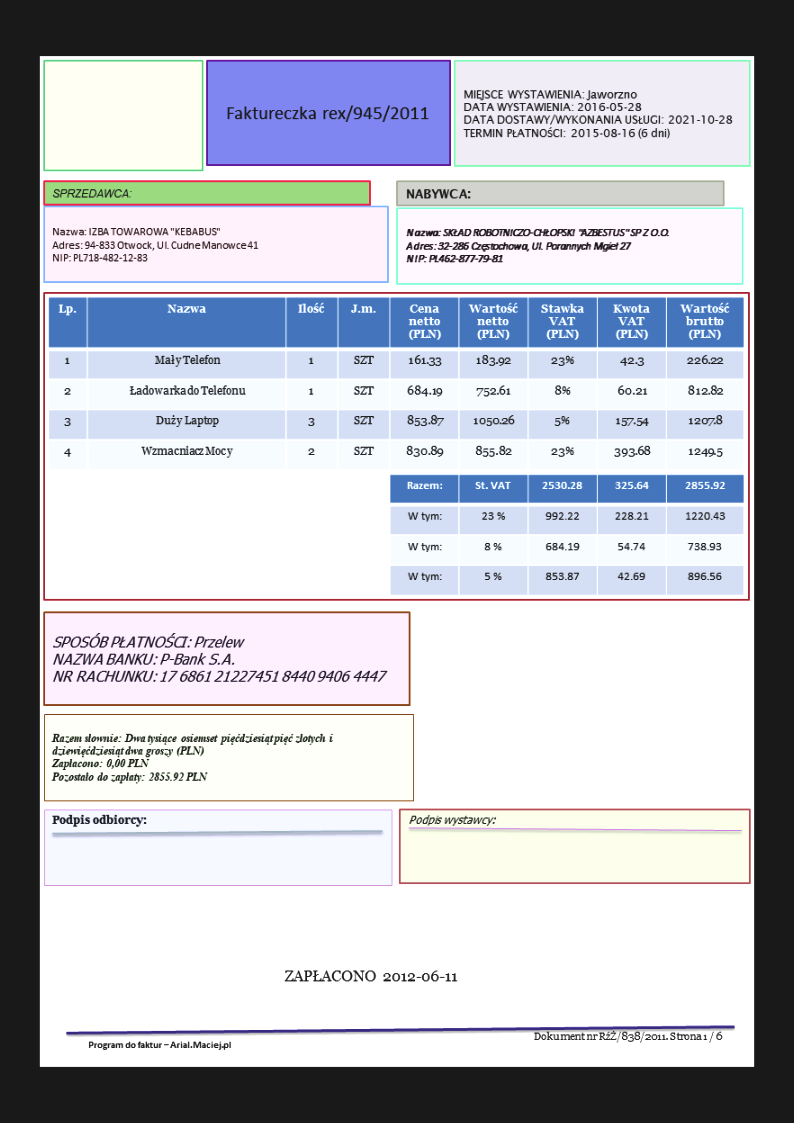Table: (47, 296, 744, 472), (389, 473, 745, 597)
TextBox: (51, 633, 388, 687), (49, 730, 335, 784), (461, 87, 734, 142), (402, 225, 671, 266), (49, 224, 260, 264), (222, 103, 429, 125), (532, 1028, 725, 1046), (280, 968, 459, 985), (86, 1038, 233, 1051), (50, 812, 150, 828), (407, 812, 496, 828), (50, 185, 133, 201), (403, 185, 472, 202)
